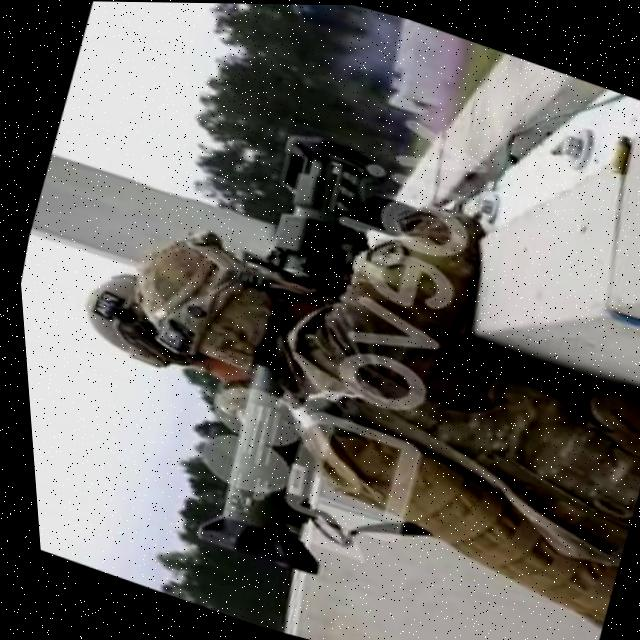rocket: (138, 118, 456, 592)
